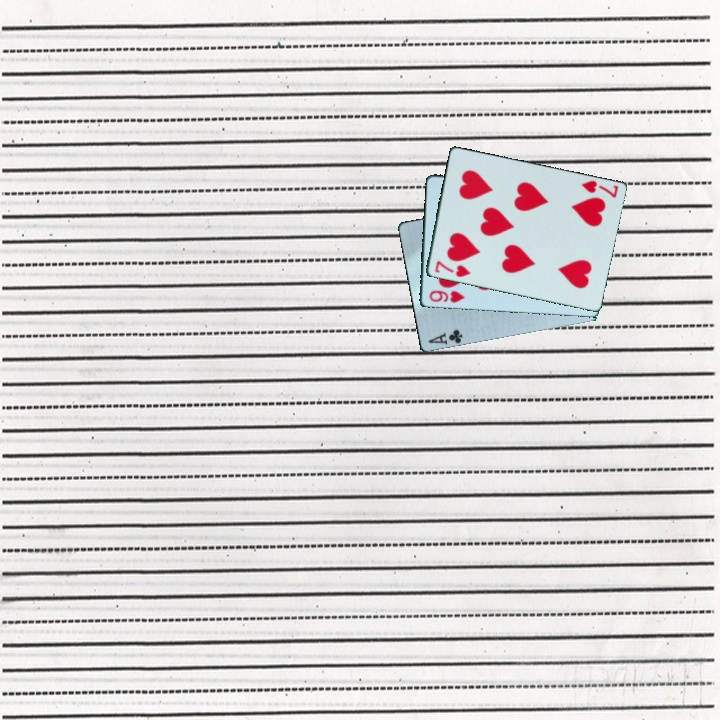7h: (578, 177, 621, 201), (431, 257, 473, 280)
9h: (426, 287, 468, 306)
Ac: (424, 326, 466, 348)
